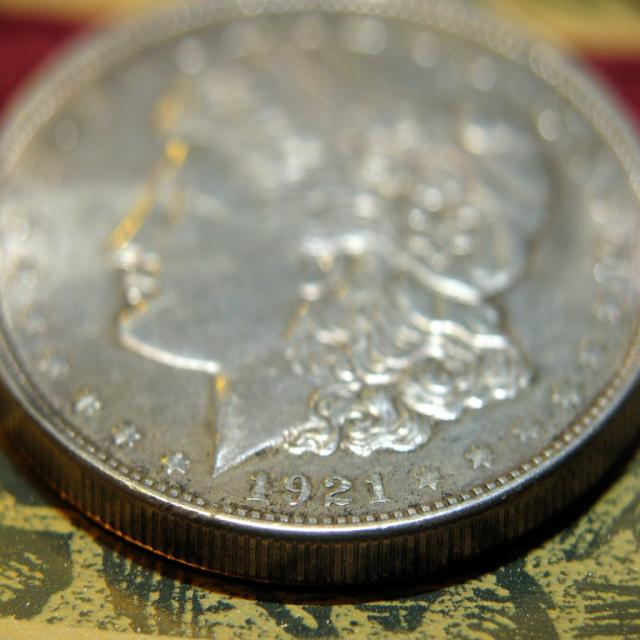Coin: (0, 0, 640, 588)
